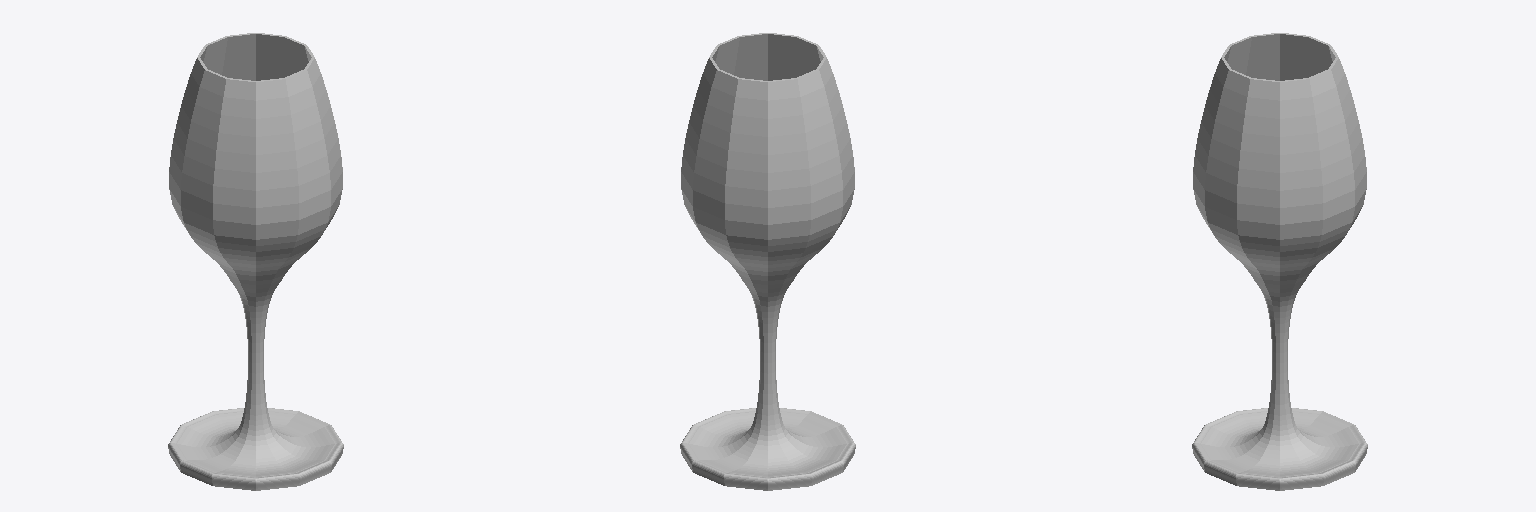
The model's file is wine.obj.
3 views of the same model, side by side, from view 1: azimuth 30°, elevation 25°; view 2: azimuth 150°, elevation 25°; view 3: azimuth 270°, elevation 25° (orthographic).
Parts seen in each view (by area): view 1: subdivision01; view 2: subdivision01; view 3: subdivision01.
Boxes of the visible parts, box(x1,y1,x2,y2) form: subdivision01: box(168, 33, 343, 490); subdivision01: box(680, 33, 855, 490); subdivision01: box(1192, 33, 1367, 490).
Size of the model in its own units: 304 by 757 by 304.